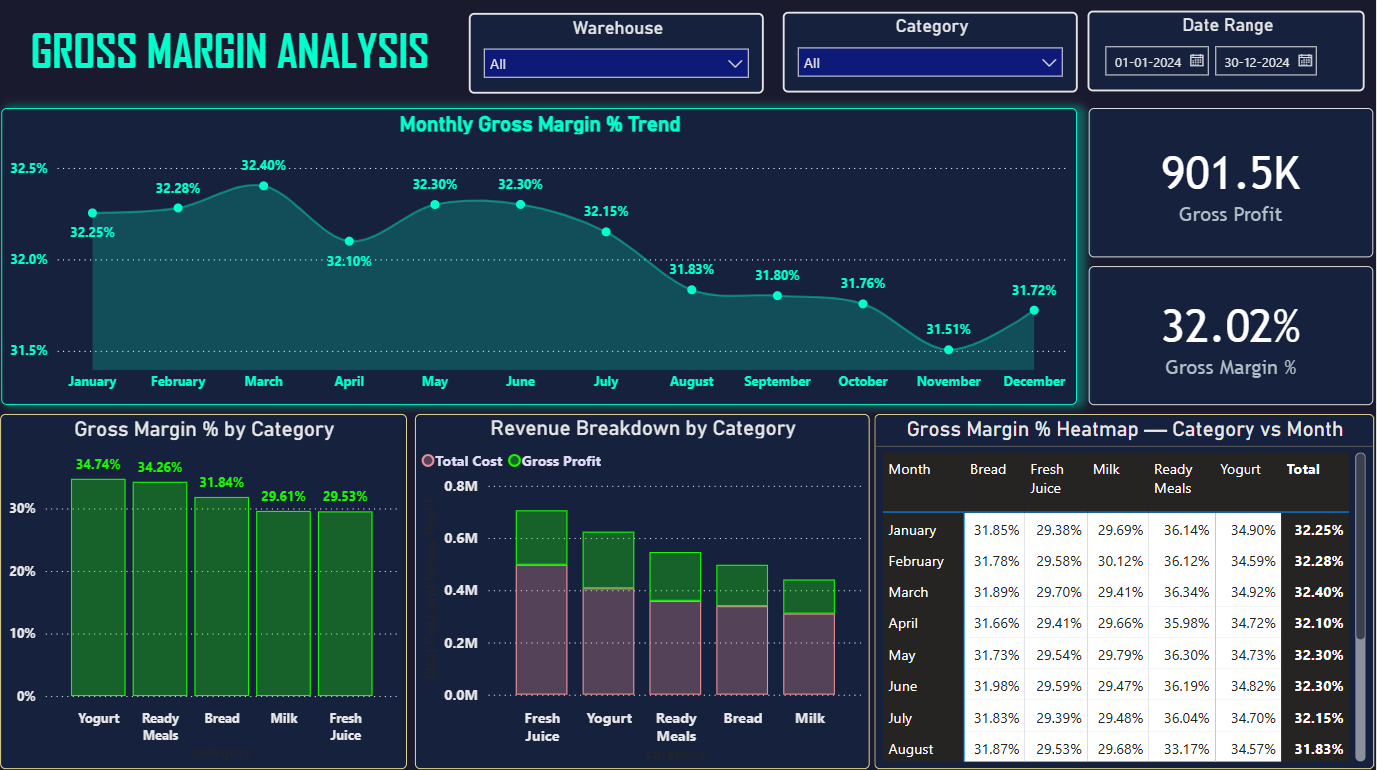

What the dashboard file says about the page in this screenshot:
{"tool":"powerbi","page":{"name":"Gross Margin Analysis","canvas":[1280,720],"ordinal":4},"visuals":[{"type":"textbox","box":[24.5,18.1,402.4,66],"z":0},{"type":"card","fields":{"Values":["_Measures.Gross Margin %"]},"box":[1012.3,249.1,265,128.8],"z":1000},{"type":"card","fields":{"Values":["_Measures.Gross Profit"]},"box":[1012.3,102.2,265,138.4],"z":2000},{"type":"columnChart","title":"Revenue Breakdown by Category","fields":{"Category":["dim_products.category"],"Y":["_Measures.Total Cost","_Measures.Gross Profit"]},"box":[386.4,386.4,422.6,328.9],"z":3000},{"type":"columnChart","title":"Gross Margin % by Category","fields":{"Category":["dim_products.category"],"Y":["_Measures.Gross Margin %"]},"box":[1.1,386.4,377.9,328.9],"z":4000},{"type":"lineChart","title":"Monthly Gross Margin % Trend","fields":{"Category":["fact_sales.sale_date.Variation.Date Hierarchy.Month"],"Y":["_Measures.Gross Margin %"]},"box":[2.1,102.2,999.5,275.7],"z":5000},{"type":"pivotTable","title":"Gross Margin % Heatmap — Category vs Month","fields":{"Rows":["fact_sales.sale_date.Variation.Date Hierarchy.Month"],"Columns":["dim_products.category"],"Values":["_Measures.Gross Margin %"]},"box":[813.2,386.4,465.2,328.9],"z":6000},{"type":"slicer","title":"Warehouse","fields":{"Values":["dim_warehouses.Warehouse Name"]},"box":[436.2,14.2,274,74.8],"z":7000},{"type":"slicer","title":"Category","fields":{"Values":["dim_products.category"]},"box":[728,13.1,274,74.8],"z":8000},{"type":"slicer","title":"Date Range","fields":{"Values":["fact_sales.sale_date"]},"box":[1011.6,12.1,258.5,74.8],"z":9000}]}

Visuals, with their boxes in screenshot pixels (x1, y1, x2, y2), scaled from the page's 1280x720 canvas onto the 1377x770 screenshot:
textbox: 26/19/459/90
card - _Measures.Gross Margin %: 1089/266/1374/404
card - _Measures.Gross Profit: 1089/109/1374/257
"Revenue Breakdown by Category" columnChart: 416/413/870/765
"Gross Margin % by Category" columnChart: 1/413/408/765
"Monthly Gross Margin % Trend" lineChart: 2/109/1078/404
"Gross Margin % Heatmap — Category vs Month" pivotTable: 875/413/1375/765
"Warehouse" slicer: 469/15/764/95
"Category" slicer: 783/14/1078/94
"Date Range" slicer: 1088/13/1366/93
